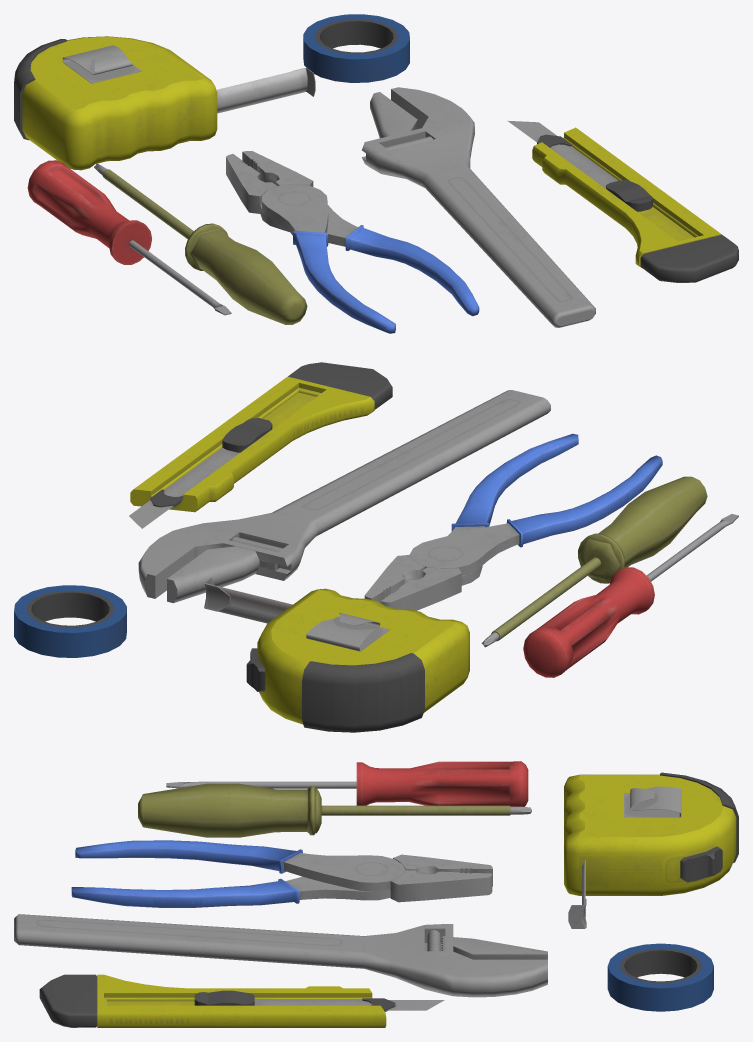
The model's file is tools_pack._free.glb.
3 renders of one model, top to bottom at view 1: azimuth 30°, elevation 25°; view 2: azimuth 150°, elevation 25°; view 3: azimuth 270°, elevation 25°, orthographic. The views are drawn at different scales.
Parts seen in each view (by area): view 1: roulette, wrench, knife, pliers, turnscrew, turnscrew2, insulatingtape; view 2: roulette, wrench, knife, pliers, turnscrew, turnscrew2, insulatingtape; view 3: wrench, roulette, pliers, knife, turnscrew, turnscrew2, insulatingtape.
Part boxes in pixels (x1,y1,x2,y2): roulette: [14, 36, 315, 170]; wrench: [362, 87, 595, 327]; knife: [507, 120, 738, 282]; pliers: [226, 151, 479, 333]; turnscrew: [94, 163, 307, 324]; turnscrew2: [27, 160, 231, 315]; insulatingtape: [303, 14, 409, 82]; roulette: [204, 577, 469, 732]; wrench: [138, 390, 550, 603]; knife: [129, 362, 392, 528]; pliers: [364, 433, 662, 610]; turnscrew: [481, 476, 707, 647]; turnscrew2: [523, 514, 738, 677]; insulatingtape: [14, 585, 126, 657]; wrench: [14, 914, 547, 997]; roulette: [564, 772, 738, 928]; pliers: [71, 840, 492, 907]; knife: [39, 974, 444, 1027]; turnscrew: [138, 783, 531, 837]; turnscrew2: [166, 761, 528, 806]; insulatingtape: [607, 943, 713, 1011].
Bounding box in the file's own units: 30.67 × 4.49 × 40.41.
Materials: 1 (1 with a texture image).
